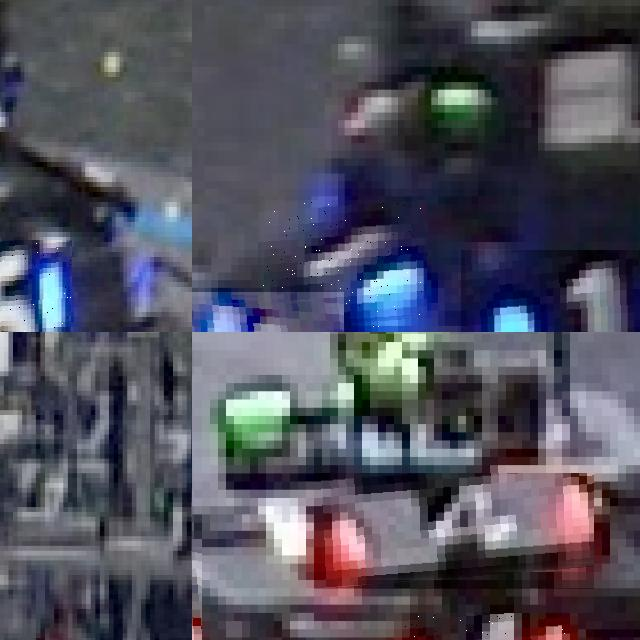B1: (261, 200, 428, 330), (461, 249, 640, 332), (192, 291, 344, 332)
B5: (0, 239, 72, 332)
R4: (314, 473, 594, 589), (402, 612, 578, 640)
